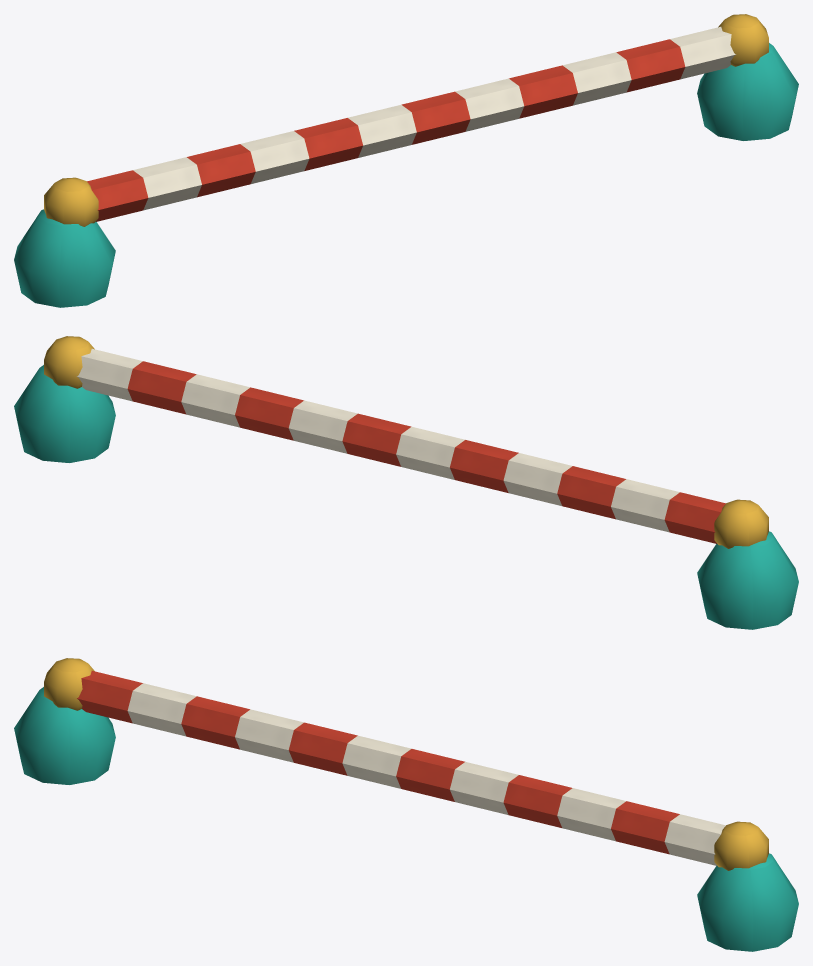
Rendered from pickup_pole.glb.
3 views of the same model, one above another, from view 1: azimuth 30°, elevation 25°; view 2: azimuth 150°, elevation 25°; view 3: azimuth 330°, elevation 25° (orthographic).
Visible parts, largest first — view 1: pickup_pole; view 2: pickup_pole; view 3: pickup_pole.
Part boxes in pixels (box(x1,y1,x2,y2)): pickup_pole: box(14, 14, 798, 307); pickup_pole: box(14, 336, 798, 629); pickup_pole: box(14, 658, 798, 951).
Bounding box in the file's own units: 1.19 × 0.18 × 0.14.
Materials: 1 (1 with a texture image).
